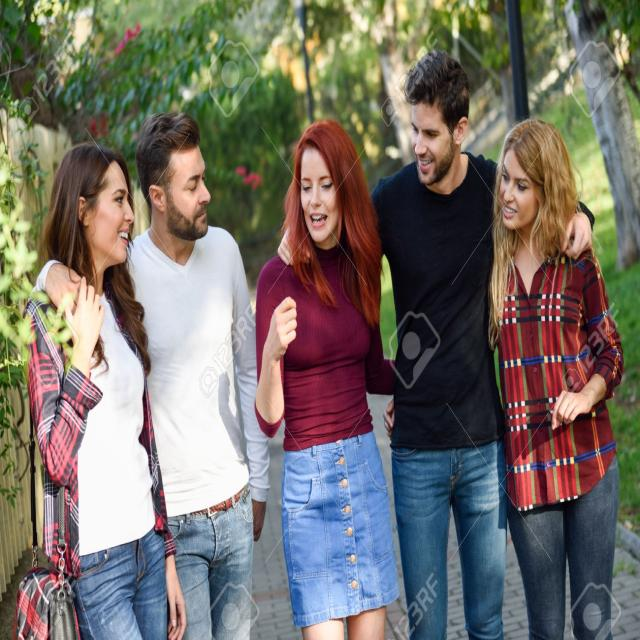body: (273, 45, 593, 639), (29, 100, 265, 639), (3, 126, 196, 640), (253, 118, 403, 640), (480, 111, 628, 640)
